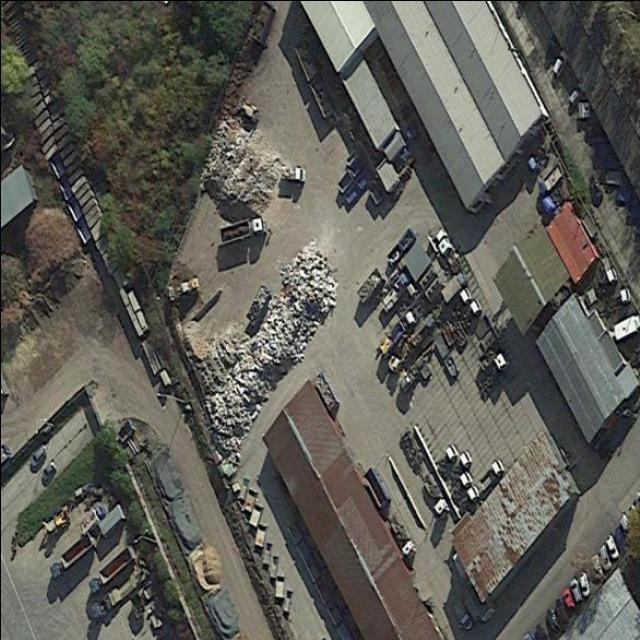dump_site: (187, 204, 345, 459), (199, 110, 290, 229)
